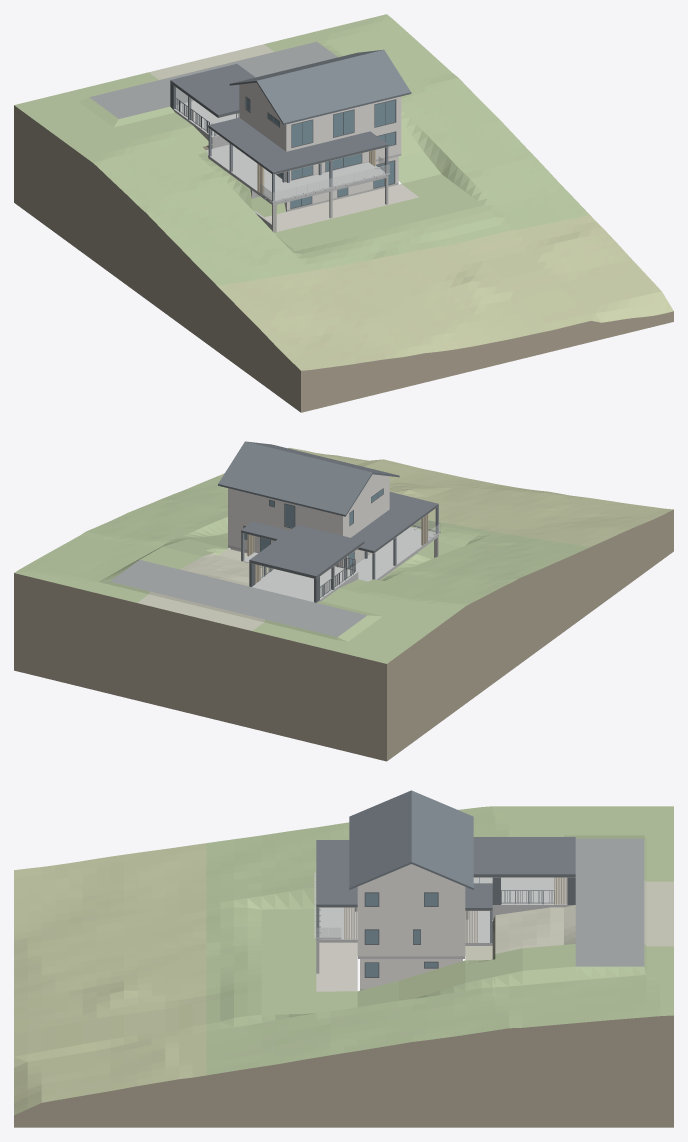
File: Schaffernak_Haus_A.glb
3 renders of one model, top to bottom at view 1: azimuth 30°, elevation 25°; view 2: azimuth 150°, elevation 25°; view 3: azimuth 270°, elevation 25°, orthographic. The views are drawn at different scales.
Visible parts, largest first — view 1: Foto_Gelaende_Rasen_Boeschung, Foto_Gelaende_Hang_unten, Foto_Gelaende_Modellrand, Satteldach_0, Strasse_parallel_zum_Haus_schematisch, Foto_Gelaende_Kies_Kellerbereich, Entwurf_Dach_vorne, Carport_Dach, Balkon_vorne, Foto_Gelaende_Seitliche_Gruenflaeche, Entwurf_Dach_links, Foto_Gelaende_Rueckseite (+3 smaller); view 2: Foto_Gelaende_Modellrand, Foto_Gelaende_Rasen_Boeschung, Foto_Gelaende_Hang_unten, Strasse_parallel_zum_Haus_schematisch, Satteldach_1, Foto_Gelaende_Rueckseite, Carport_Dach, Foto_Gelaende_Seitliche_Gruenflaeche, Carport_Boden, Entwurf_Dach_links, Balkon_links, OG_back_Wand0 (+5 smaller); view 3: Foto_Gelaende_Rasen_Boeschung, Foto_Gelaende_Modellrand, Foto_Gelaende_Hang_unten, Strasse_parallel_zum_Haus_schematisch, Foto_Gelaende_Rueckseite, Foto_Gelaende_Seitliche_Gruenflaeche, Satteldach_0, Satteldach_1, Carport_Dach, Entwurf_Dach_vorne, Foto_Gelaende_Kies_Kellerbereich, Carport_Boden (+9 smaller).
Boxes of the visible parts, bbox=[...] form: Foto_Gelaende_Rasen_Boeschung: bbox=[14, 14, 589, 285]; Foto_Gelaende_Hang_unten: bbox=[217, 215, 673, 370]; Foto_Gelaende_Modellrand: bbox=[14, 105, 673, 412]; Satteldach_0: bbox=[256, 50, 411, 124]; Strasse_parallel_zum_Haus_schematisch: bbox=[89, 41, 337, 118]; Foto_Gelaende_Kies_Kellerbereich: bbox=[265, 184, 418, 231]; Entwurf_Dach_vorne: bbox=[255, 131, 388, 174]; Carport_Dach: bbox=[171, 64, 254, 114]; Balkon_vorne: bbox=[255, 162, 388, 205]; Foto_Gelaende_Seitliche_Gruenflaeche: bbox=[264, 34, 440, 183]; Entwurf_Dach_links: bbox=[208, 117, 285, 160]; Foto_Gelaende_Rueckseite: bbox=[149, 44, 273, 79]; Foto_Gelaende_Modellrand: bbox=[14, 509, 673, 761]; Foto_Gelaende_Rasen_Boeschung: bbox=[14, 476, 589, 663]; Foto_Gelaende_Hang_unten: bbox=[218, 447, 673, 546]; Strasse_parallel_zum_Haus_schematisch: bbox=[110, 560, 366, 636]; Satteldach_1: bbox=[218, 441, 372, 516]; Foto_Gelaende_Rueckseite: bbox=[137, 549, 272, 630]; Carport_Dach: bbox=[250, 525, 363, 575]; Foto_Gelaende_Seitliche_Gruenflaeche: bbox=[97, 533, 229, 602]; Carport_Boden: bbox=[252, 569, 352, 602]; Entwurf_Dach_links: bbox=[351, 509, 420, 552]; Balkon_links: bbox=[351, 540, 420, 580]; OG_back_Wand0: bbox=[295, 504, 345, 535]; Foto_Gelaende_Rasen_Boeschung: bbox=[206, 806, 673, 1075]; Foto_Gelaende_Modellrand: bbox=[14, 1015, 673, 1127]; Foto_Gelaende_Hang_unten: bbox=[14, 843, 206, 1115]; Strasse_parallel_zum_Haus_schematisch: bbox=[575, 838, 644, 966]; Foto_Gelaende_Rueckseite: bbox=[465, 879, 673, 960]; Foto_Gelaende_Seitliche_Gruenflaeche: bbox=[357, 944, 673, 1007]; Satteldach_0: bbox=[349, 790, 411, 889]; Satteldach_1: bbox=[411, 790, 473, 889]; Carport_Dach: bbox=[473, 837, 575, 874]; Entwurf_Dach_vorne: bbox=[316, 840, 357, 907]; Foto_Gelaende_Kies_Kellerbereich: bbox=[316, 942, 357, 991]; Carport_Boden: bbox=[492, 877, 573, 906].
Size of the model in its own units: 36 by 16.06 by 48.
